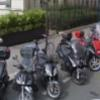motorcycles: (7, 43, 38, 100), (34, 39, 62, 99), (57, 33, 87, 85), (76, 24, 100, 71)
